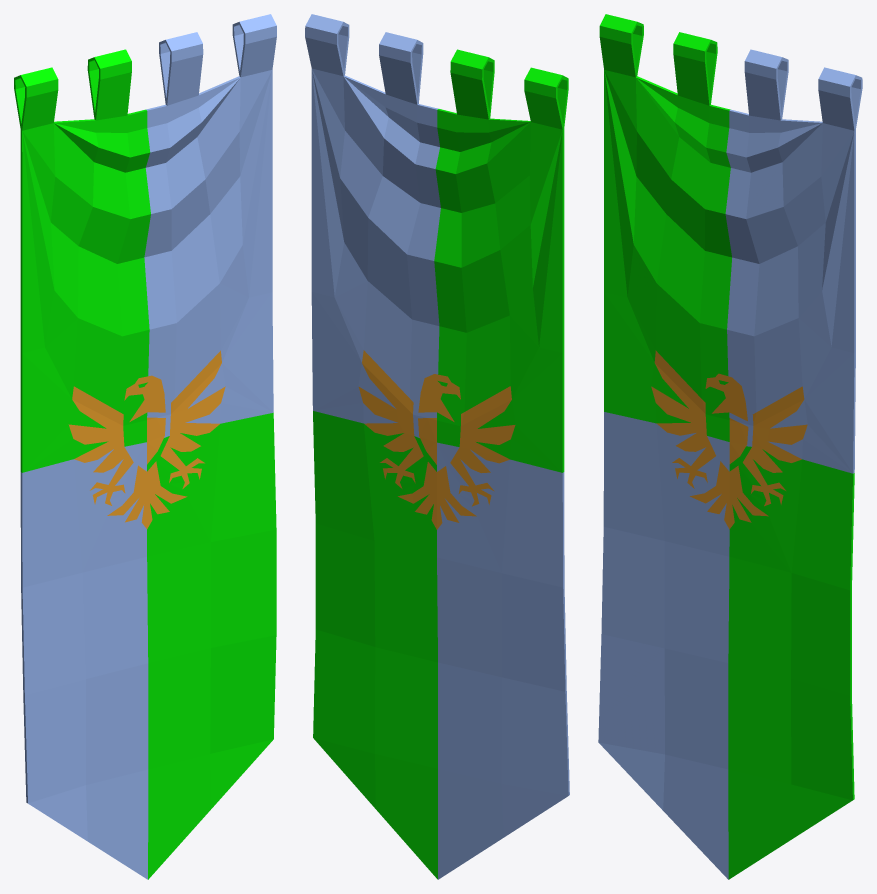
The model's file is SM_Flag_Banner_Medium_B_Fantasy.fbx.
3 renders of one model, left to right at view 1: azimuth 30°, elevation 25°; view 2: azimuth 150°, elevation 25°; view 3: azimuth 330°, elevation 25°, orthographic.
Parts seen in each view (by area): view 1: flag-banner-medium-b-fantasy; view 2: flag-banner-medium-b-fantasy; view 3: flag-banner-medium-b-fantasy.
Boxes of the visible parts, left/top/right/bottom form: flag-banner-medium-b-fantasy: left=14, top=14, right=276, bottom=879; flag-banner-medium-b-fantasy: left=305, top=14, right=569, bottom=879; flag-banner-medium-b-fantasy: left=598, top=14, right=862, bottom=879.
Bounding box in the file's own units: 0.9575 × 3.04 × 0.0921.
